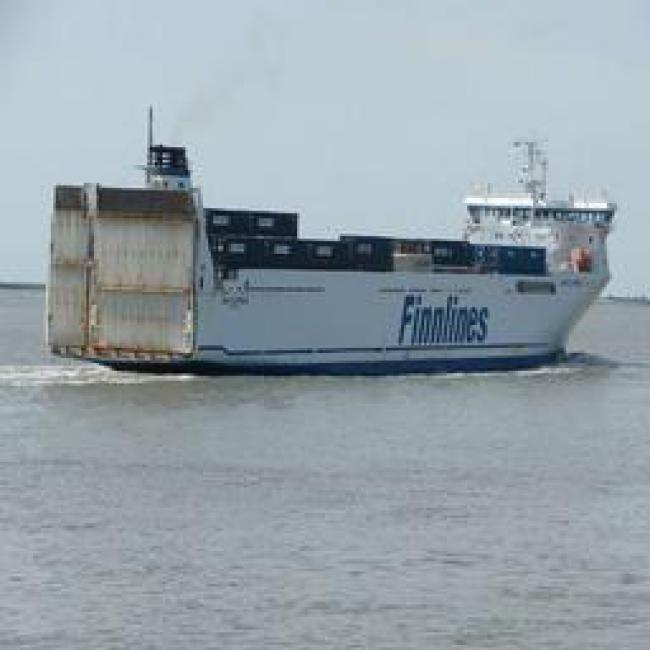Ship: (39, 164, 637, 379)
